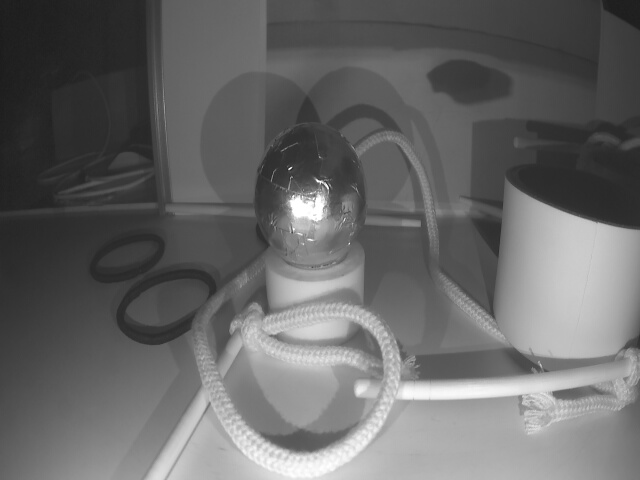Live: (253, 124, 361, 257)
